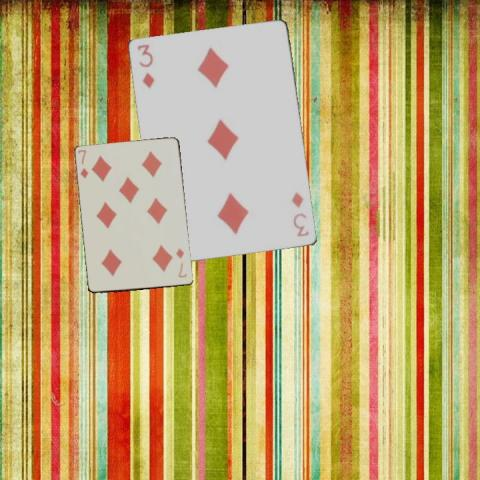3d: (288, 188, 310, 238), (135, 41, 156, 90)
7d: (173, 246, 188, 280), (75, 147, 90, 180)
